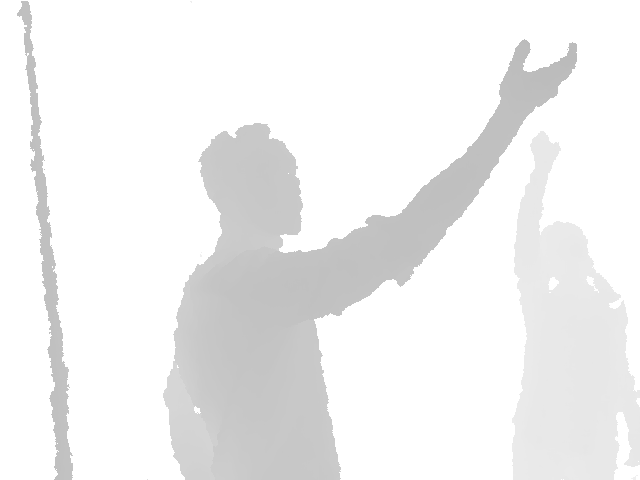hand: (497, 38, 579, 111), (529, 130, 562, 167)
head: (200, 122, 303, 237), (539, 221, 596, 269)
person: (161, 38, 580, 480), (511, 130, 640, 480)
